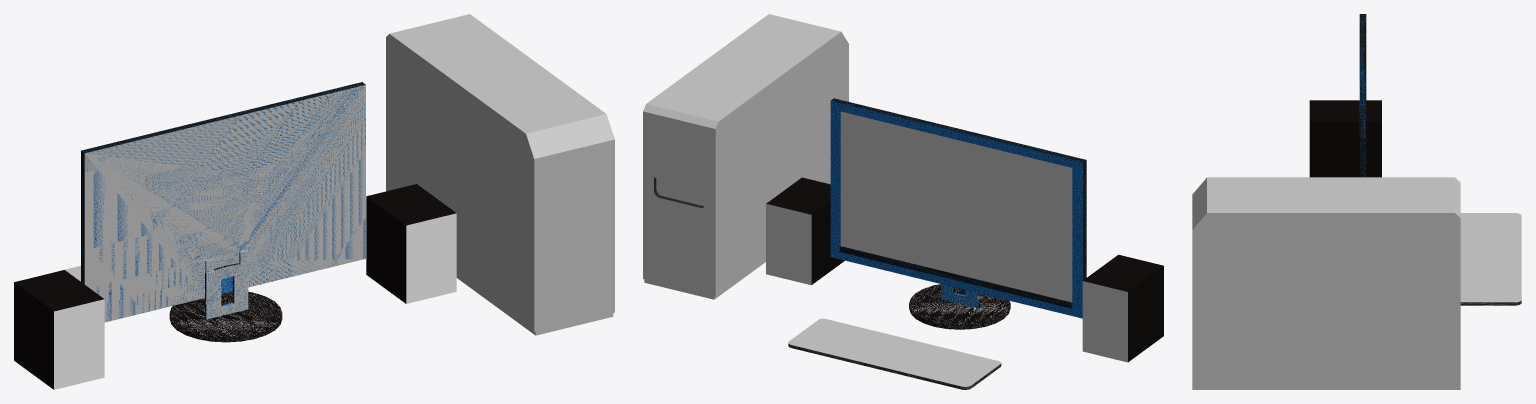
File: desktop.dae
3 renders of one model, left to right at view 1: azimuth 30°, elevation 25°; view 2: azimuth 150°, elevation 25°; view 3: azimuth 270°, elevation 25°, orthographic. The views are drawn at different scales.
Visible parts, largest first — view 1: Asus_Moniter (×4), group_1 (×2), group_2 (×2), group_0 (×2); view 2: Asus_Moniter (×6), group_1 (×3), group_0 (×2), Microsoft_keyboard (×2), group_2 (×2); view 3: group_1 (×2), Microsoft_keyboard, group_0, Asus_Moniter.
Part boxes in pixels (box(x1,y1,x2,y2)): Asus_Moniter (×4): box(81, 82, 365, 342); group_1 (×2): box(386, 14, 614, 335); group_2 (×2): box(366, 184, 456, 303); group_0 (×2): box(14, 270, 104, 389); Asus_Moniter (×6): box(830, 98, 1086, 329); group_1 (×3): box(643, 14, 848, 299); group_0 (×2): box(1082, 254, 1163, 362); Microsoft_keyboard (×2): box(788, 318, 1001, 389); group_2 (×2): box(766, 177, 844, 285); group_1 (×2): box(1192, 177, 1460, 389); Microsoft_keyboard: box(1460, 213, 1521, 302); group_0: box(1309, 100, 1381, 177); Asus_Moniter: box(1359, 14, 1366, 177).
Bounding box in the file's own units: 38.03 × 24.16 × 14.81.
